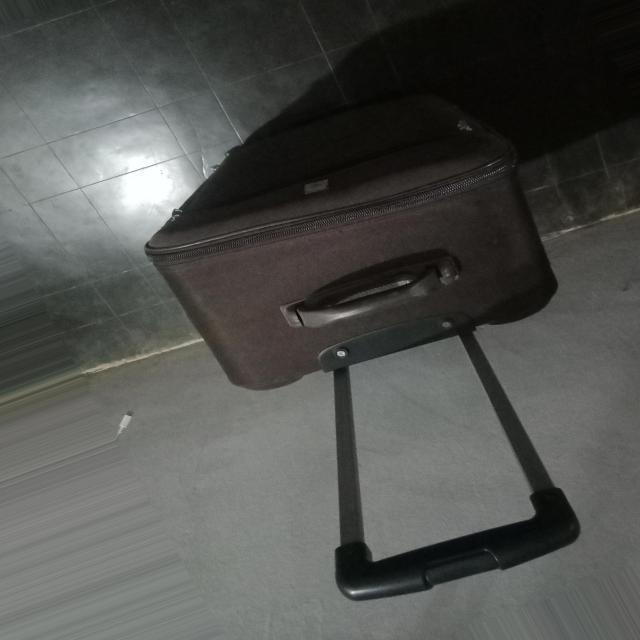Suitcase: (145, 78, 594, 597)
